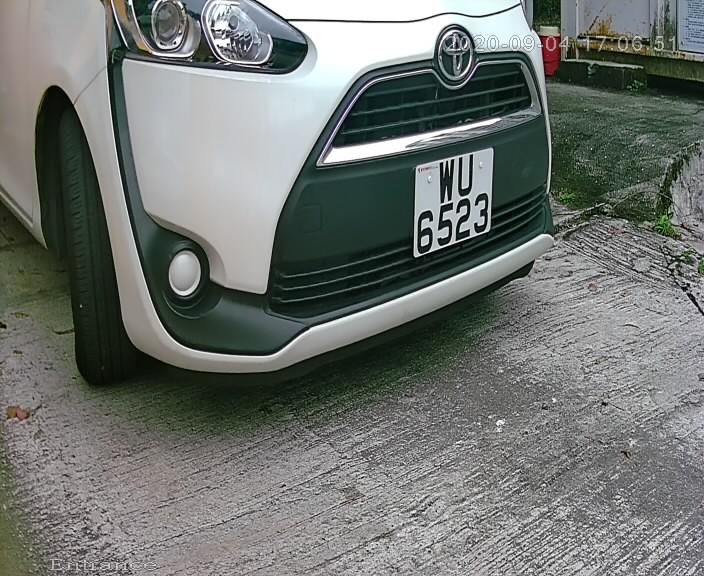License Plate: (409, 134, 500, 268)
